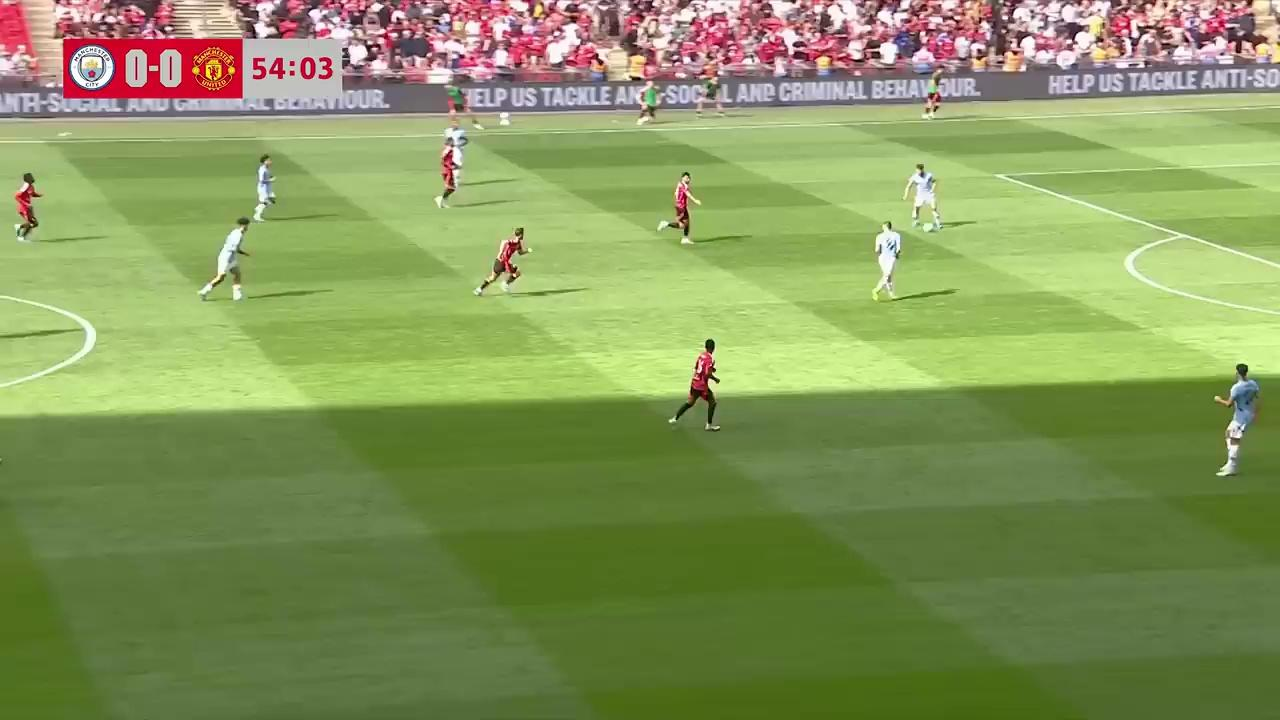ball: (922, 219, 934, 234)
player: (1212, 362, 1261, 476), (667, 338, 721, 432), (200, 218, 252, 302), (473, 232, 524, 297), (906, 163, 942, 233), (872, 220, 902, 302), (670, 172, 700, 243), (14, 173, 42, 242), (250, 153, 276, 223), (435, 144, 460, 209), (448, 120, 469, 169)
